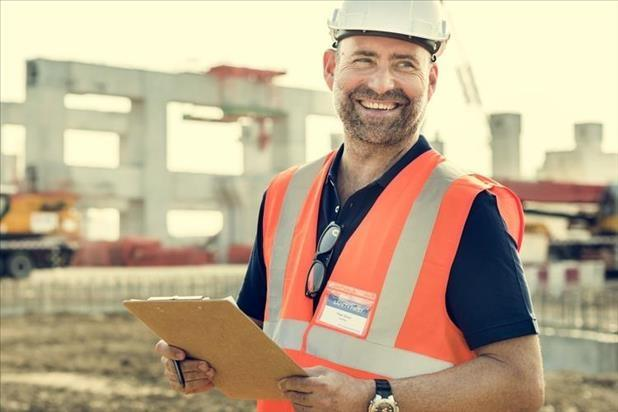helmet: (324, 0, 451, 48)
wear: (254, 160, 525, 412)
